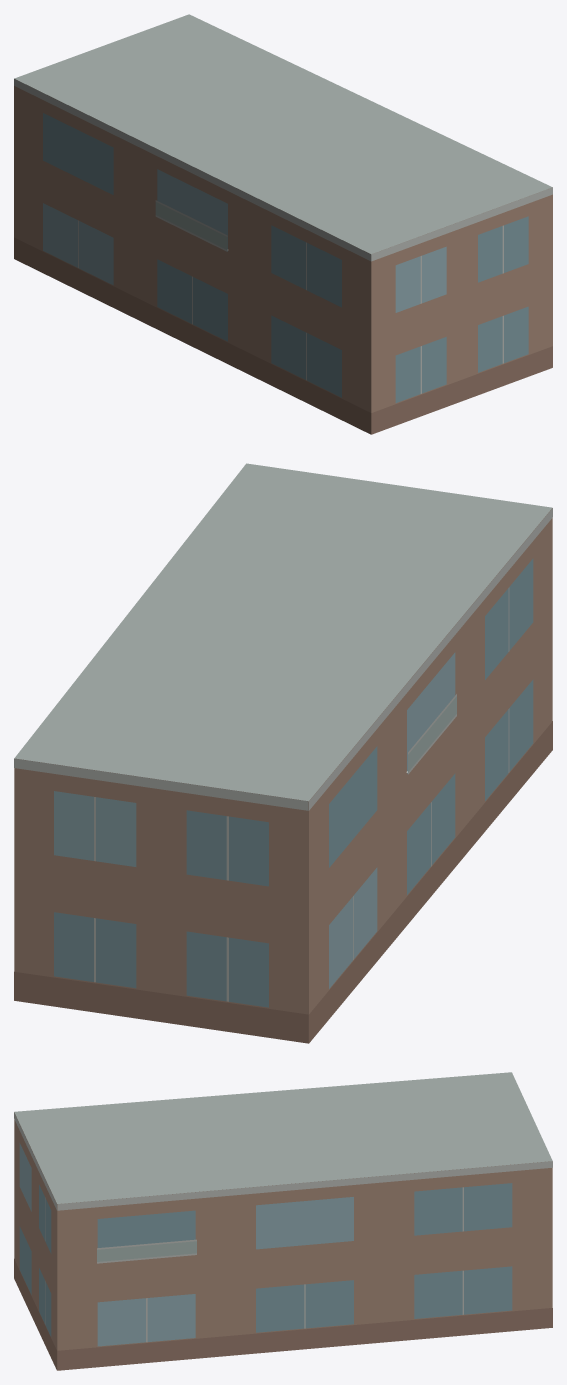
File: survey-upis-32743545.glb
3 views of the same model, one above another, from view 1: azimuth 30°, elevation 25°; view 2: azimuth 150°, elevation 25°; view 3: azimuth 270°, elevation 25° (orthographic). The views are drawn at different scales.
Visible parts, largest first — view 1: survey-upis-32743545.tmp; view 2: survey-upis-32743545.tmp; view 3: survey-upis-32743545.tmp.
Part boxes in pixels (box(x1,y1,x2,y2)): survey-upis-32743545.tmp: box(14, 14, 552, 434); survey-upis-32743545.tmp: box(14, 463, 552, 1043); survey-upis-32743545.tmp: box(14, 1072, 552, 1370).
Size of the model in its own units: 10.37 by 6.1 by 17.88.
